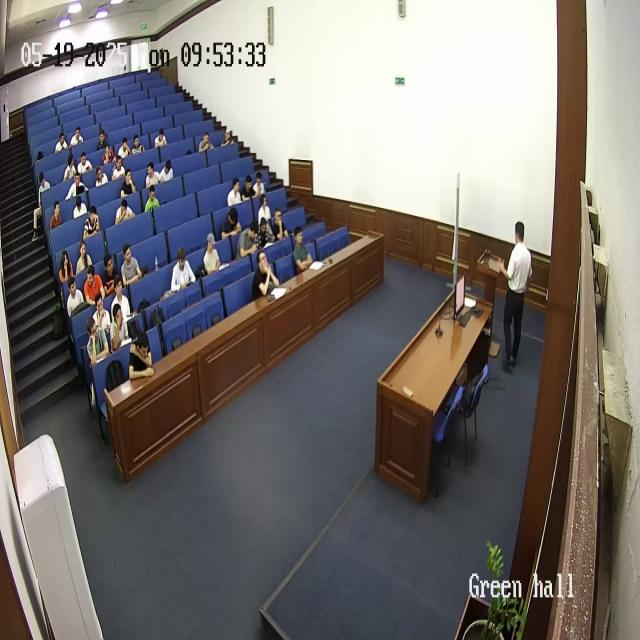person: (496, 223, 532, 372), (128, 330, 156, 380), (252, 251, 280, 301), (171, 245, 197, 295), (33, 172, 51, 240), (88, 314, 110, 367), (110, 276, 132, 326), (108, 302, 130, 351), (292, 224, 314, 273), (83, 262, 105, 310), (120, 242, 142, 290), (237, 218, 261, 260), (202, 233, 224, 277), (102, 251, 121, 297), (67, 276, 85, 324), (57, 248, 76, 293), (220, 205, 242, 241), (75, 239, 94, 279), (256, 216, 276, 253), (66, 172, 87, 206), (114, 191, 134, 226), (272, 207, 290, 244), (83, 204, 101, 241), (48, 199, 64, 240), (73, 186, 91, 221), (256, 191, 272, 229), (240, 173, 258, 204), (64, 153, 80, 184), (144, 163, 162, 190), (144, 184, 160, 214), (226, 177, 242, 207), (120, 167, 136, 197), (78, 150, 94, 180), (110, 155, 126, 182), (94, 162, 109, 190), (69, 124, 84, 152), (158, 158, 174, 184), (252, 171, 266, 200), (54, 132, 68, 158), (103, 140, 117, 166), (197, 132, 213, 154), (130, 132, 144, 156), (154, 127, 168, 150), (119, 135, 131, 161), (97, 129, 109, 154), (222, 127, 236, 148)
